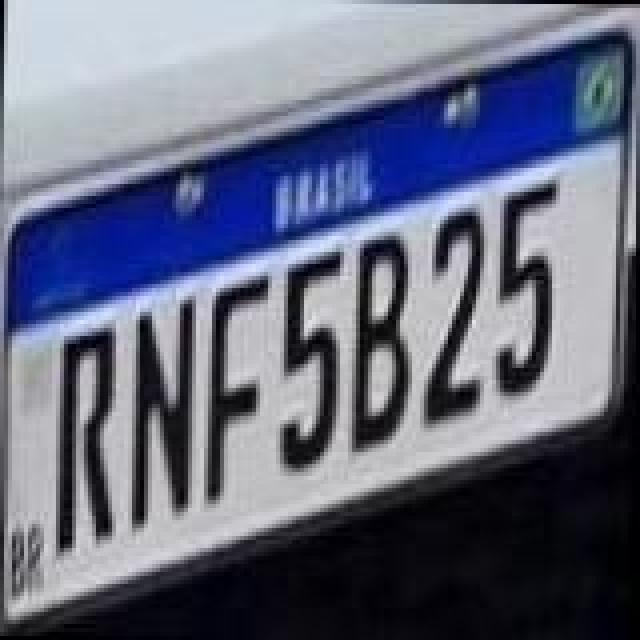2: (422, 202, 490, 426)
5: (282, 246, 350, 474), (490, 172, 558, 396)
B: (350, 234, 418, 458)
F: (208, 270, 276, 510)
N: (130, 296, 202, 532)
R: (54, 328, 122, 560)
